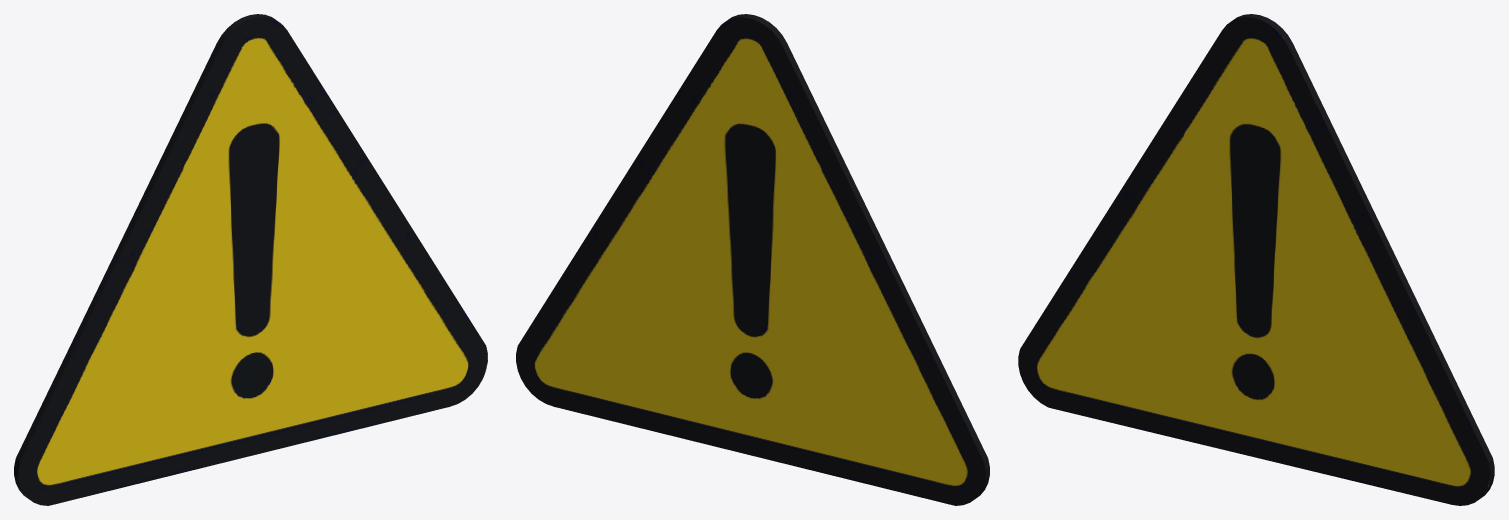
File: warning-sign.fbx
3 renders of one model, left to right at view 1: azimuth 30°, elevation 25°; view 2: azimuth 150°, elevation 25°; view 3: azimuth 330°, elevation 25°, orthographic.
Visible parts, largest first — view 1: Цилиндр.001; view 2: Цилиндр.001; view 3: Цилиндр.001.
Part boxes in pixels (box(x1,y1,x2,y2)): Цилиндр.001: box(14, 14, 487, 505); Цилиндр.001: box(516, 14, 989, 505); Цилиндр.001: box(1018, 14, 1494, 505).
Size of the model in its own units: 61.63 by 54.89 by 1.
